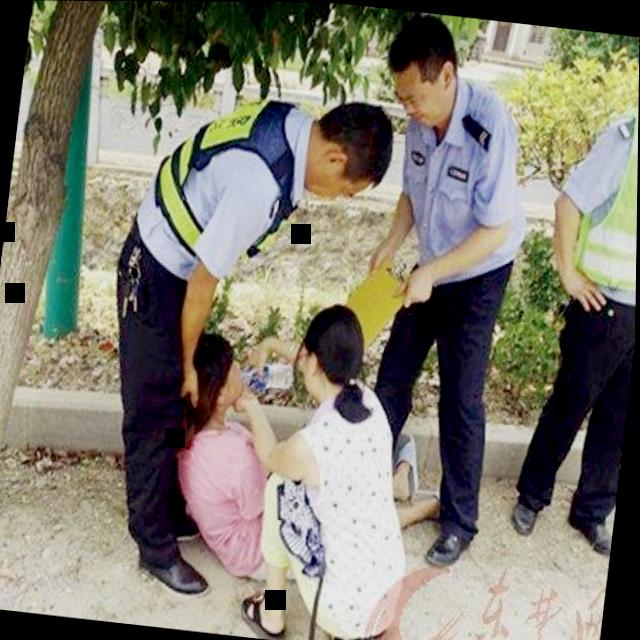Fall-Detected: (145, 319, 325, 598)
